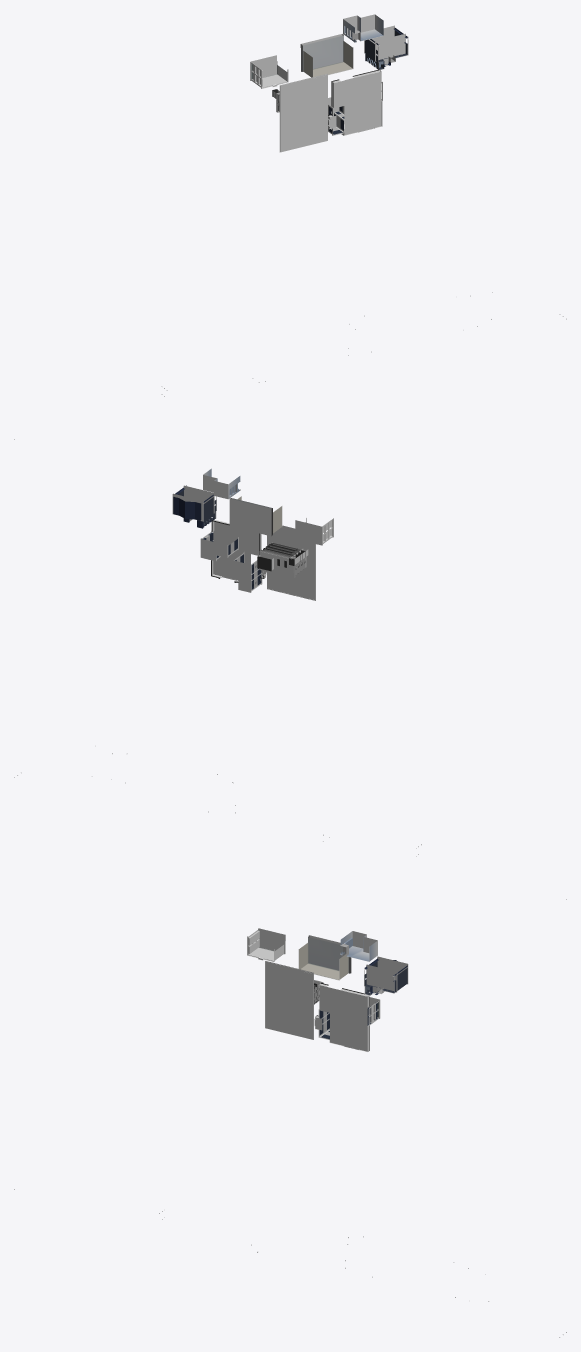
File: SM_000274_merge_w40h101_atlas1_1_4_ground_lv4.fbx
3 views of the same model, one above another, from view 1: azimuth 30°, elevation 25°; view 2: azimuth 150°, elevation 25°; view 3: azimuth 330°, elevation 25° (orthographic).
Visible parts, largest first — view 1: SM_000274.001; view 2: SM_000274.001; view 3: SM_000274.001.
Boxes of the visible parts, x1,y1,x2,y2 form: SM_000274.001: (14,14,566,439); SM_000274.001: (14,468,566,899); SM_000274.001: (14,928,566,1337).
Size of the model in its own units: 321 by 194 by 16.93.
